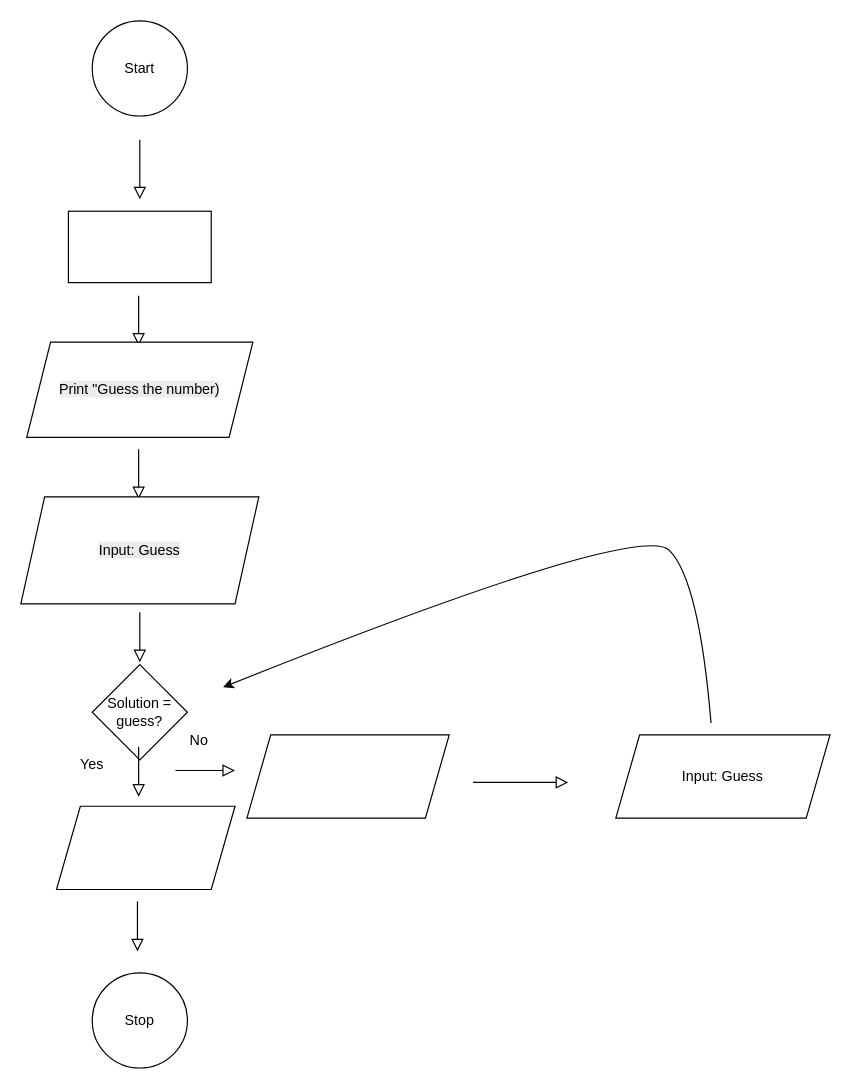
The diagram is 851 pixels wide and 1089 high, and some of its shapes have lost their labels. The box of each missing label's shape, as (x1, y1, x2, y2) in pixels:
Print: (55, 805, 235, 890)
Print hint (Grater/less): (246, 734, 449, 818)
Solution = 84: (67, 210, 211, 283)
